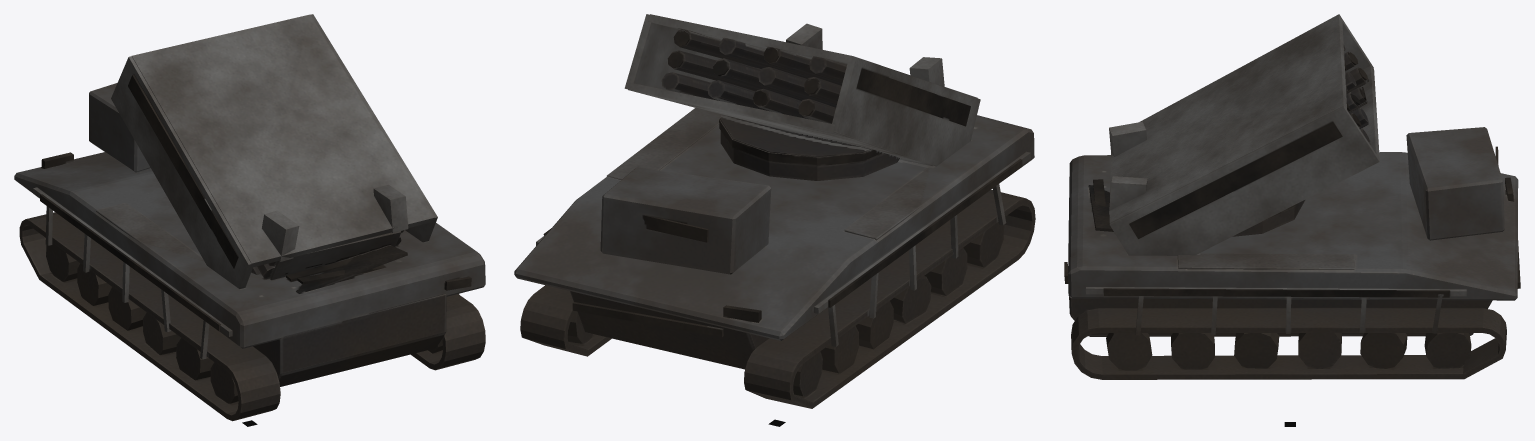
The model's file is chs_hydra_wreck.fbx.
3 views of the same model, side by side, from view 1: azimuth 30°, elevation 25°; view 2: azimuth 150°, elevation 25°; view 3: azimuth 270°, elevation 25° (orthographic). The views are drawn at different scales.
Parts seen in each view (by area): view 1: launcher_bar, base_bar, trackL_bar, trackR_bar, turret_bar; view 2: base_bar, launcher_bar, trackL_bar, turret_bar, trackR_bar; view 3: base_bar, launcher_bar, trackR_bar, turret_bar.
Boxes of the visible parts, x1,y1,x2,y2 form: launcher_bar: (111,14,437,288); base_bar: (14,83,485,386); trackL_bar: (19,212,280,421); trackR_bar: (411,294,485,370); turret_bar: (262,184,408,261); base_bar: (514,108,1034,369); launcher_bar: (624,14,980,166); trackL_bar: (744,189,1035,408); turret_bar: (719,23,944,180); trackR_bar: (520,285,611,356); base_bar: (1064,127,1520,336); launcher_bar: (1109,14,1379,255); trackR_bar: (1071,308,1506,379); turret_bar: (1109,121,1305,236).
Size of the model in its own units: 511 by 701 by 795.
2 materials, 2 textured.
